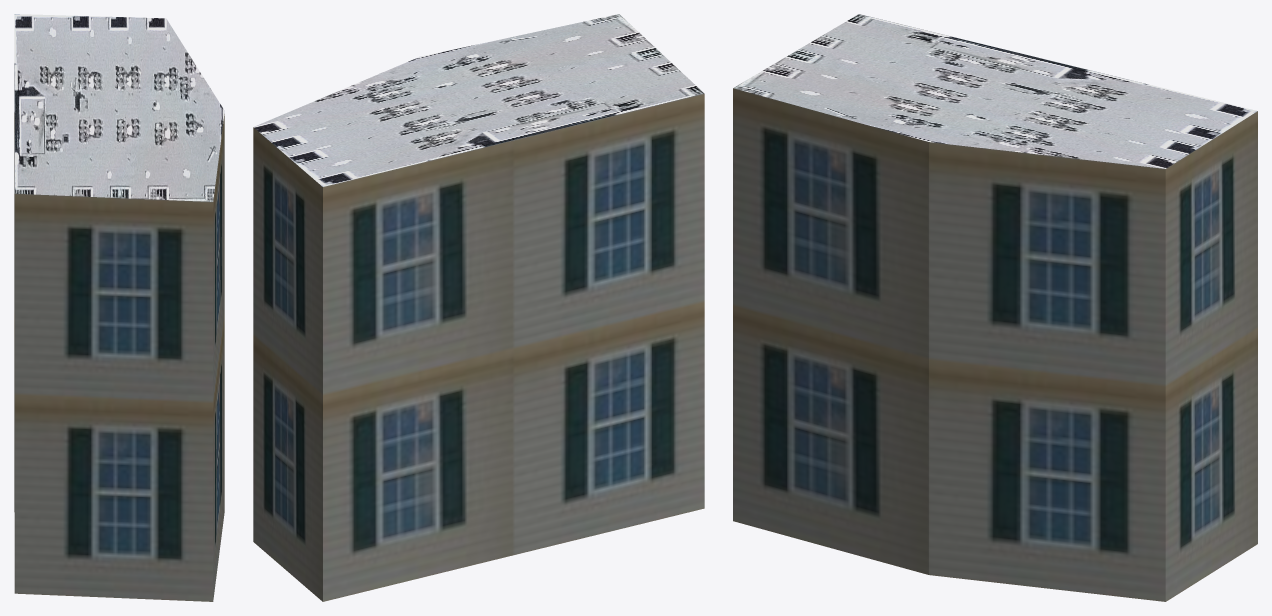
File: ResTex__604.fbx
3 views of the same model, side by side, from view 1: azimuth 30°, elevation 25°; view 2: azimuth 150°, elevation 25°; view 3: azimuth 270°, elevation 25° (orthographic). The views are drawn at different scales.
Parts seen in each view (by area): view 1: CityEngineMaterial_7_m, CityEngineMaterial_8_m; view 2: CityEngineMaterial_7_m, CityEngineMaterial_8_m; view 3: CityEngineMaterial_7_m, CityEngineMaterial_8_m.
Part boxes in pixels (x1,y1,x2,y2): CityEngineMaterial_7_m: [14, 112, 224, 601]; CityEngineMaterial_8_m: [14, 14, 224, 201]; CityEngineMaterial_7_m: [253, 93, 704, 601]; CityEngineMaterial_8_m: [253, 14, 704, 186]; CityEngineMaterial_7_m: [733, 88, 1257, 601]; CityEngineMaterial_8_m: [733, 14, 1257, 168].
Bounding box in the file's own units: 4.6 × 6 × 6.59.
2 materials, 2 textured.
